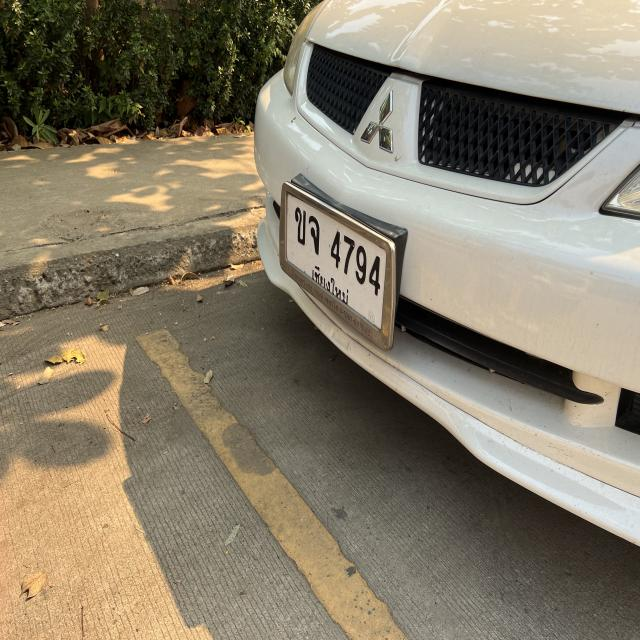license_plate: (275, 177, 400, 367)
